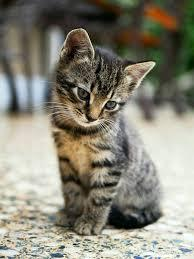Non_Gorille: (40, 25, 167, 233)
